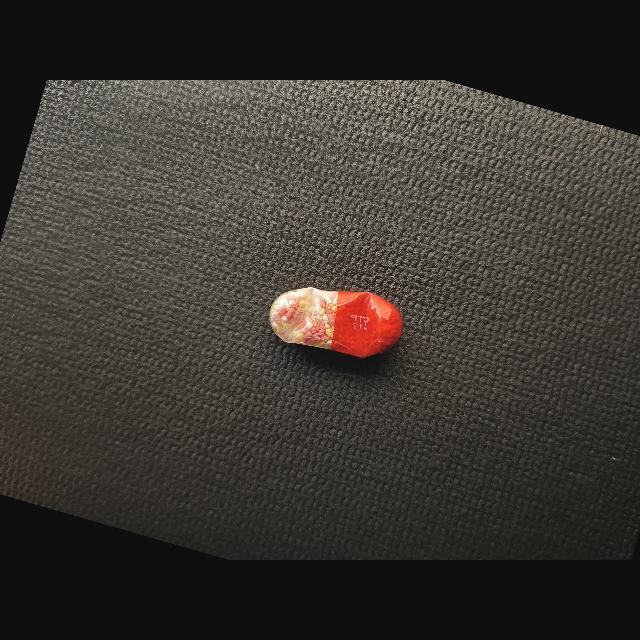Defective Capsule: (269, 287, 404, 358)
